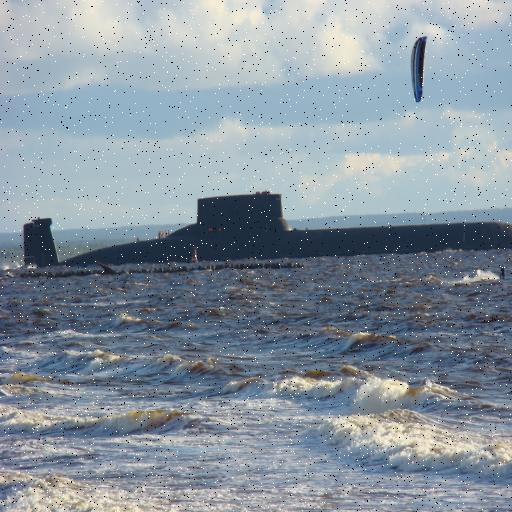submarine: (1, 187, 512, 252)
